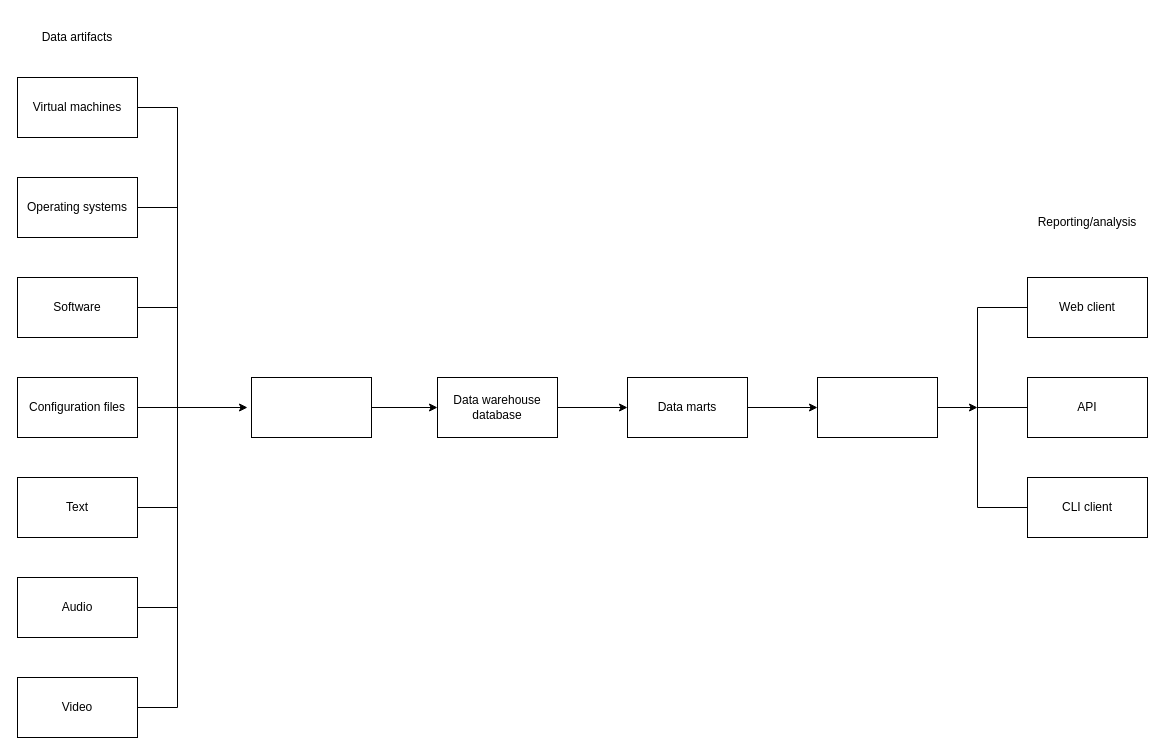
Image size: 1165x755. Some labels were removed from this diagram. Here are the shapes that lost their labels. From the top down, the centre of each, then its label:
the point at 311,407: ETL tools
the point at 877,407: OLAP
